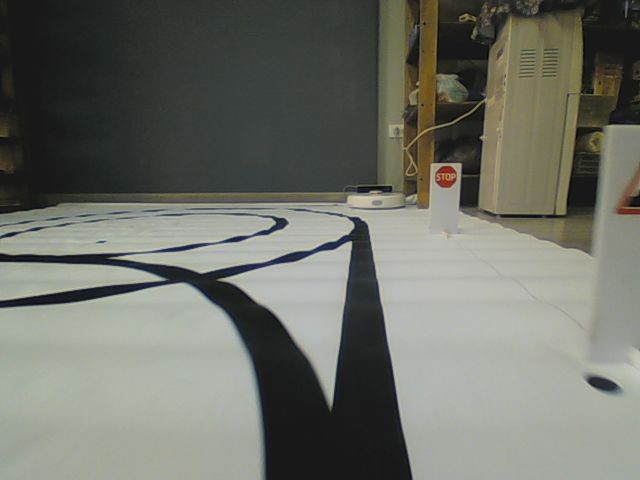Stop: (433, 165, 458, 189)
